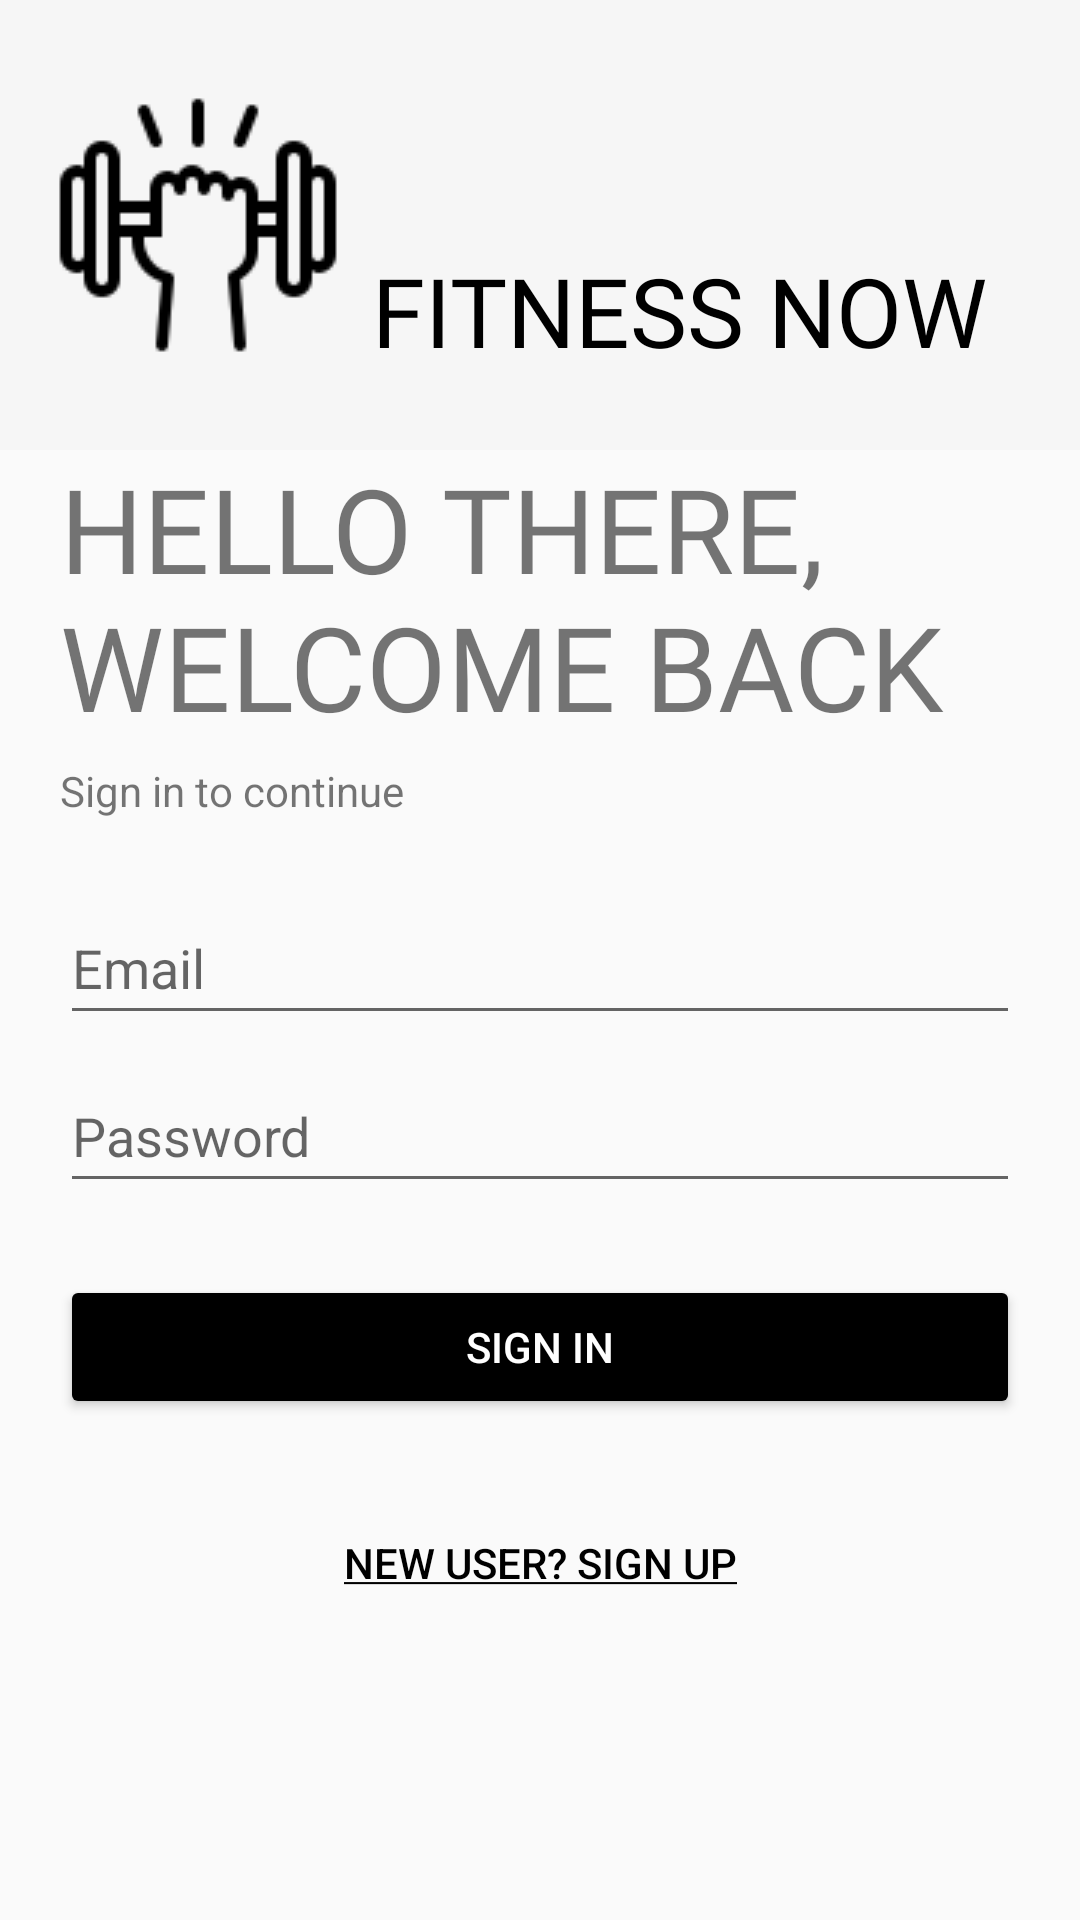

Point at icon controls on the screen. Image size 1080px x 1920px, points as point (x, y).
strength: point (198, 225)
